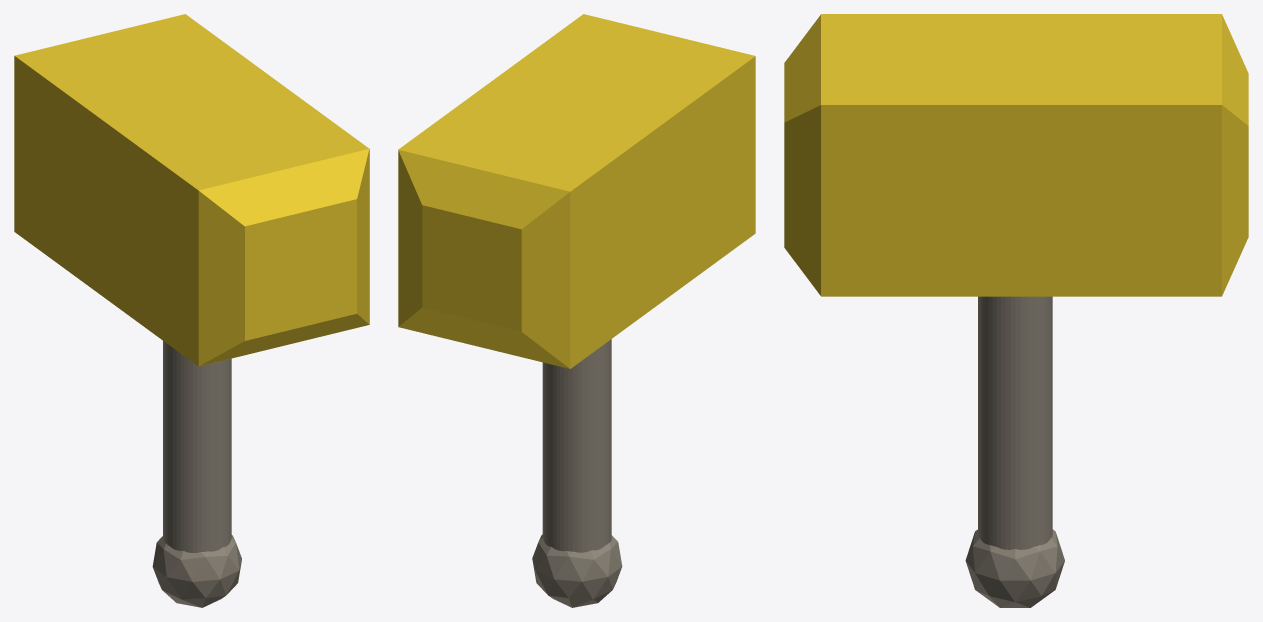
Rendered from TexturedHammer.fbx.
3 views of the same model, side by side, from view 1: azimuth 30°, elevation 25°; view 2: azimuth 150°, elevation 25°; view 3: azimuth 270°, elevation 25° (orthographic). The views are drawn at different scales.
Visible parts, largest first — view 1: Head, Handle; view 2: Head, Handle; view 3: Head, Handle.
Part boxes in pixels (x1=…): Head: x1=14, y1=14, x2=369, y2=366; Handle: x1=152, y1=341, x2=241, y2=607; Head: x1=398, y1=14, x2=755, y2=368; Handle: x1=532, y1=339, x2=622, y2=607; Head: x1=784, y1=14, x2=1248, y2=296; Handle: x1=965, y1=296, x2=1064, y2=607.
Size of the model in its own units: 30.85 by 86.27 by 66.64.
